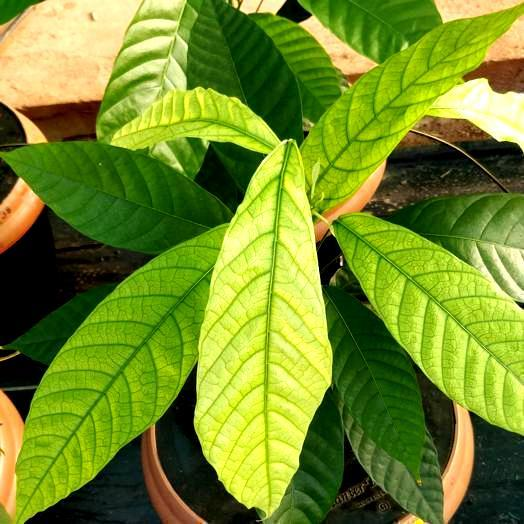Healthy Leaf: (2, 141, 231, 254), (324, 287, 424, 475), (187, 0, 301, 138), (97, 0, 202, 141), (390, 193, 523, 302), (342, 407, 442, 523), (263, 389, 344, 523), (251, 13, 346, 122), (5, 284, 116, 364), (298, 0, 441, 62), (217, 144, 259, 188), (151, 138, 202, 174)
Iron: (17, 226, 225, 521), (195, 140, 331, 514), (302, 3, 523, 210), (335, 214, 523, 433), (110, 87, 278, 153)
